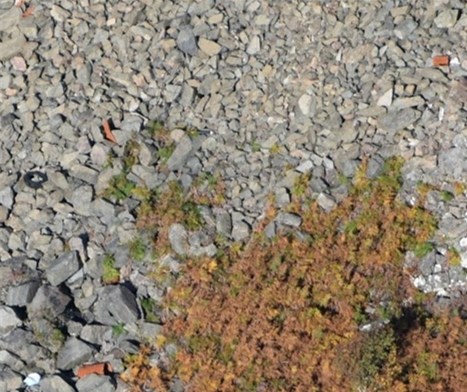white_in_green: (4, 148, 69, 206), (61, 339, 129, 392), (78, 106, 135, 157), (419, 37, 467, 83), (9, 357, 58, 392)
